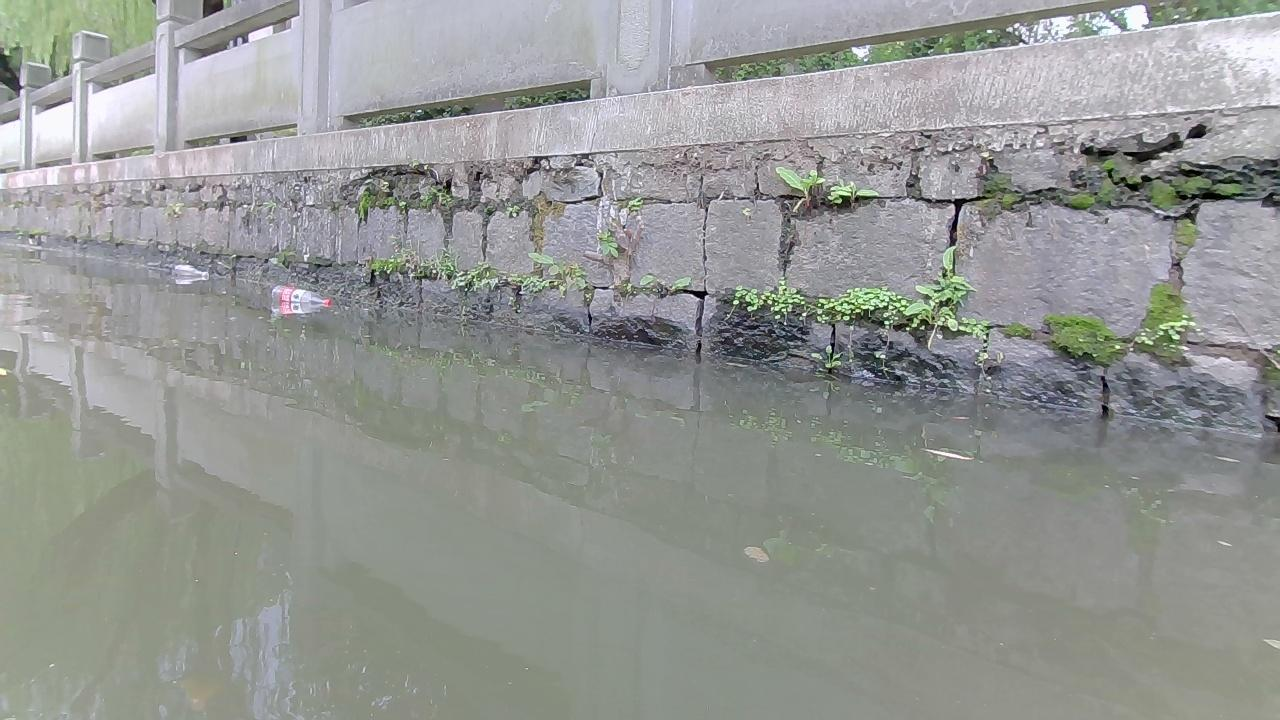bottle: (270, 284, 330, 304), (174, 264, 208, 276)
